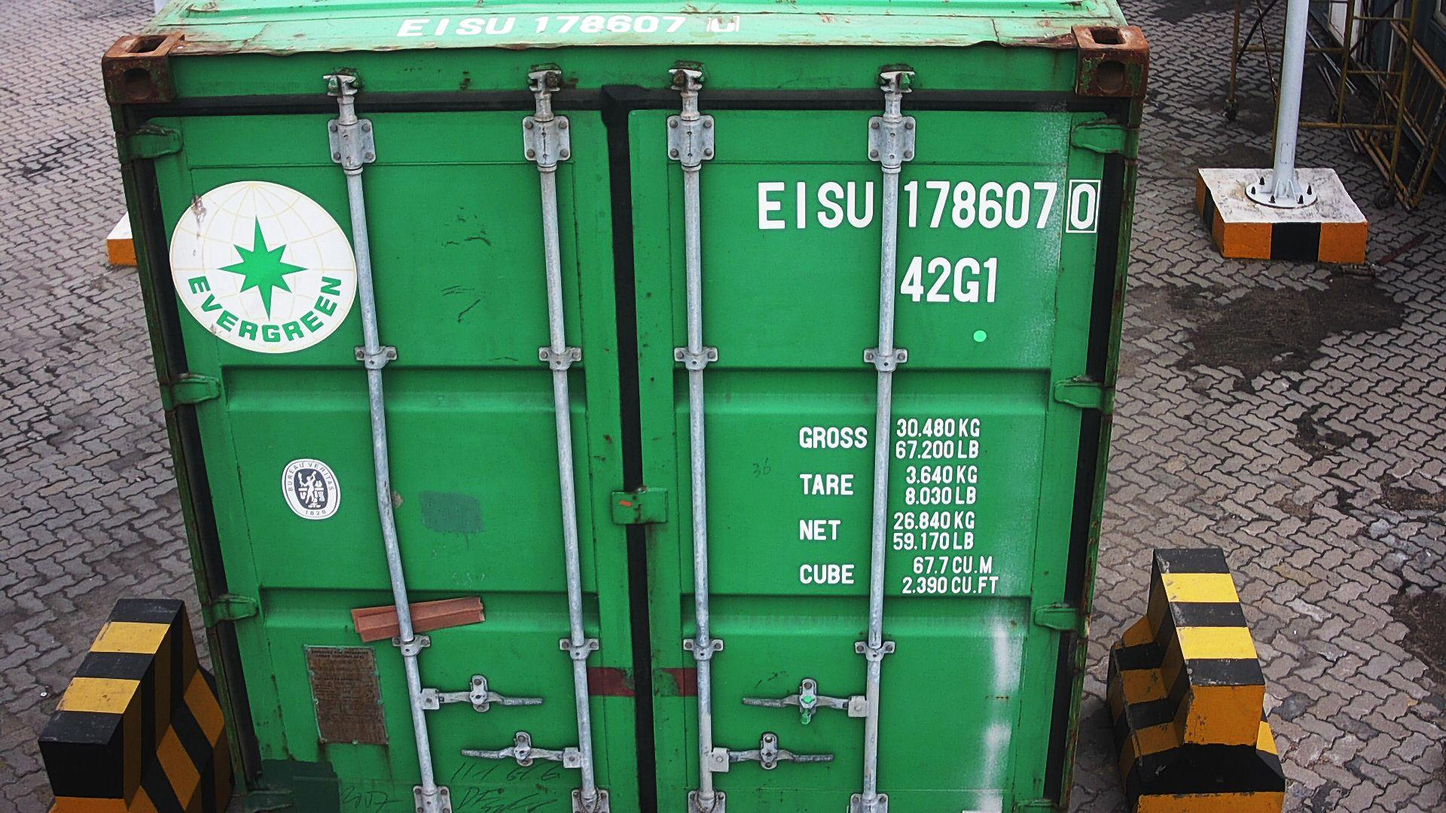container-numbers: (752, 174, 1106, 237), (389, 9, 749, 38), (896, 251, 1004, 307)
